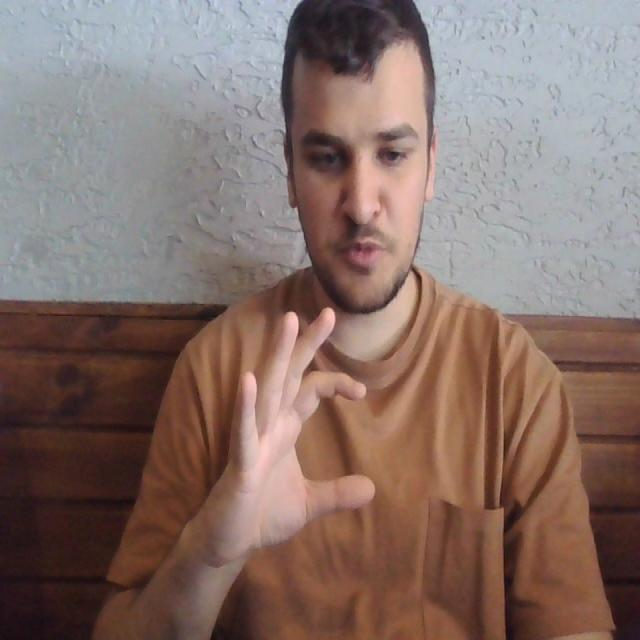Tuvalet: (192, 279, 406, 567)
